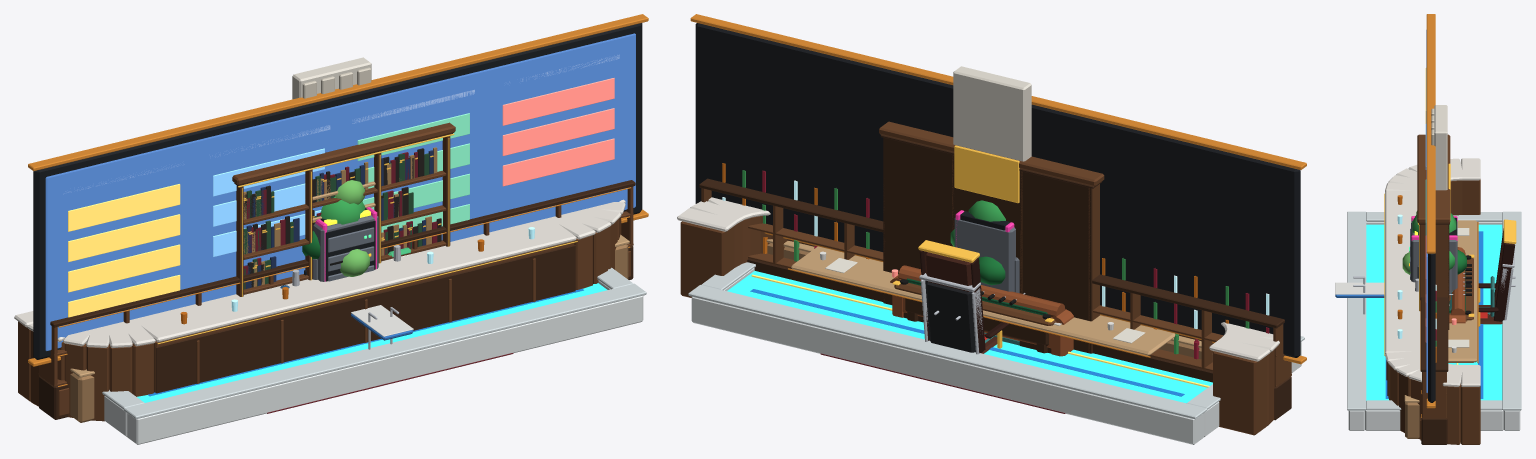
The model's file is furniture.glb.
The picture shows the model from 3 angles, left to right: view 1: azimuth 30°, elevation 25°; view 2: azimuth 150°, elevation 25°; view 3: azimuth 270°, elevation 25°; orthographic projection. The views are drawn at different scales.
Parts seen in each view (by area): view 1: board, bar_counter, pool, bookcase_lux_w, wine_wall, bookcase_lux_e, server, plant_tall, wall, diving_board; view 2: board, pool, bookcase_lux_w, wine_wall, bar_counter, table, wall, chair_black, exec_chair, statue, billiard_table, sofa_lux (+2 smaller); view 3: pool, bar_counter, board, bookcase_lux_w, wine_wall, table, exec_chair, wall, diving_board, server, sofa_lux, plant_tall (+4 smaller).
Boxes of the visible parts, bbox=[...] form: board: bbox=[28, 14, 648, 422]; bar_counter: bbox=[14, 199, 625, 421]; pool: bbox=[102, 267, 646, 444]; bookcase_lux_w: bbox=[232, 122, 455, 296]; wine_wall: bbox=[38, 180, 635, 419]; bookcase_lux_e: bbox=[243, 152, 413, 289]; server: bbox=[313, 215, 378, 281]; plant_tall: bbox=[302, 180, 369, 276]; wall: bbox=[292, 57, 371, 99]; diving_board: bbox=[351, 305, 413, 340]; board: bbox=[690, 14, 1306, 364]; pool: bbox=[688, 262, 1304, 444]; bookcase_lux_w: bbox=[879, 121, 1104, 353]; wine_wall: bbox=[699, 163, 1291, 420]; bar_counter: bbox=[677, 197, 1279, 435]; table: bbox=[788, 246, 1175, 357]; wall: bbox=[953, 66, 1031, 161]; chair_black: bbox=[919, 273, 982, 354]; exec_chair: bbox=[918, 240, 1009, 353]; statue: bbox=[954, 145, 1020, 293]; billiard_table: bbox=[892, 278, 1055, 353]; sofa_lux: bbox=[890, 265, 1073, 356]; pool: bbox=[1347, 211, 1521, 430]; bar_counter: bbox=[1384, 158, 1480, 444]; board: bbox=[1404, 14, 1435, 438]; bookcase_lux_w: bbox=[1417, 134, 1450, 329]; wine_wall: bbox=[1420, 285, 1448, 444]; table: bbox=[1448, 220, 1478, 363]; exec_chair: bbox=[1478, 219, 1516, 326]; wall: bbox=[1431, 105, 1447, 190]; diving_board: bbox=[1335, 282, 1384, 297]; server: bbox=[1409, 221, 1457, 291]; sofa_lux: bbox=[1449, 247, 1465, 323]; plant_tall: bbox=[1402, 211, 1466, 274].
Bounding box in the file's own units: 8.5 × 4.1 × 2.82.
